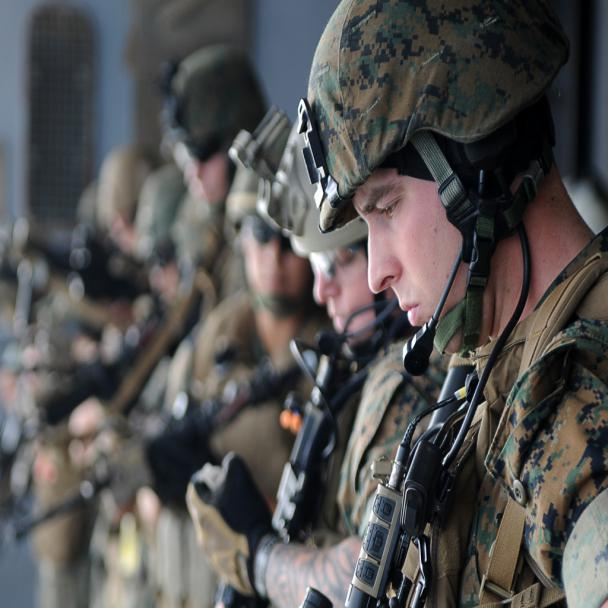Gun: (345, 372, 498, 607), (273, 312, 380, 543)
